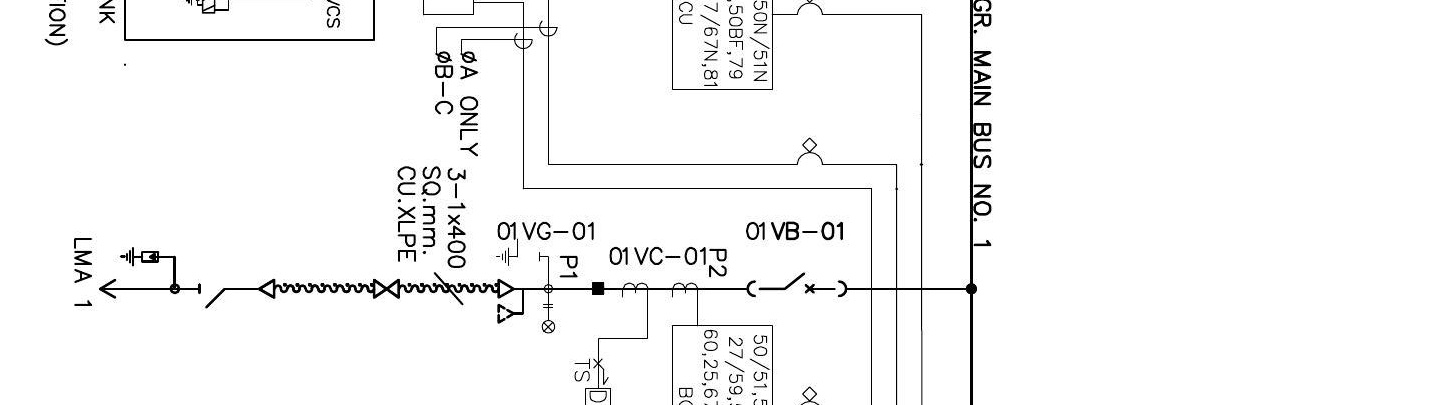22_breaker: (745, 271, 848, 299)
22_ds_la_out: (98, 246, 226, 309)
22_gs: (496, 238, 542, 268)
22_ll: (541, 303, 556, 334)
terminator_single: (258, 278, 277, 301)
terminator_splicing_kits: (373, 278, 401, 299)
terminator_w_future: (496, 278, 526, 325)
